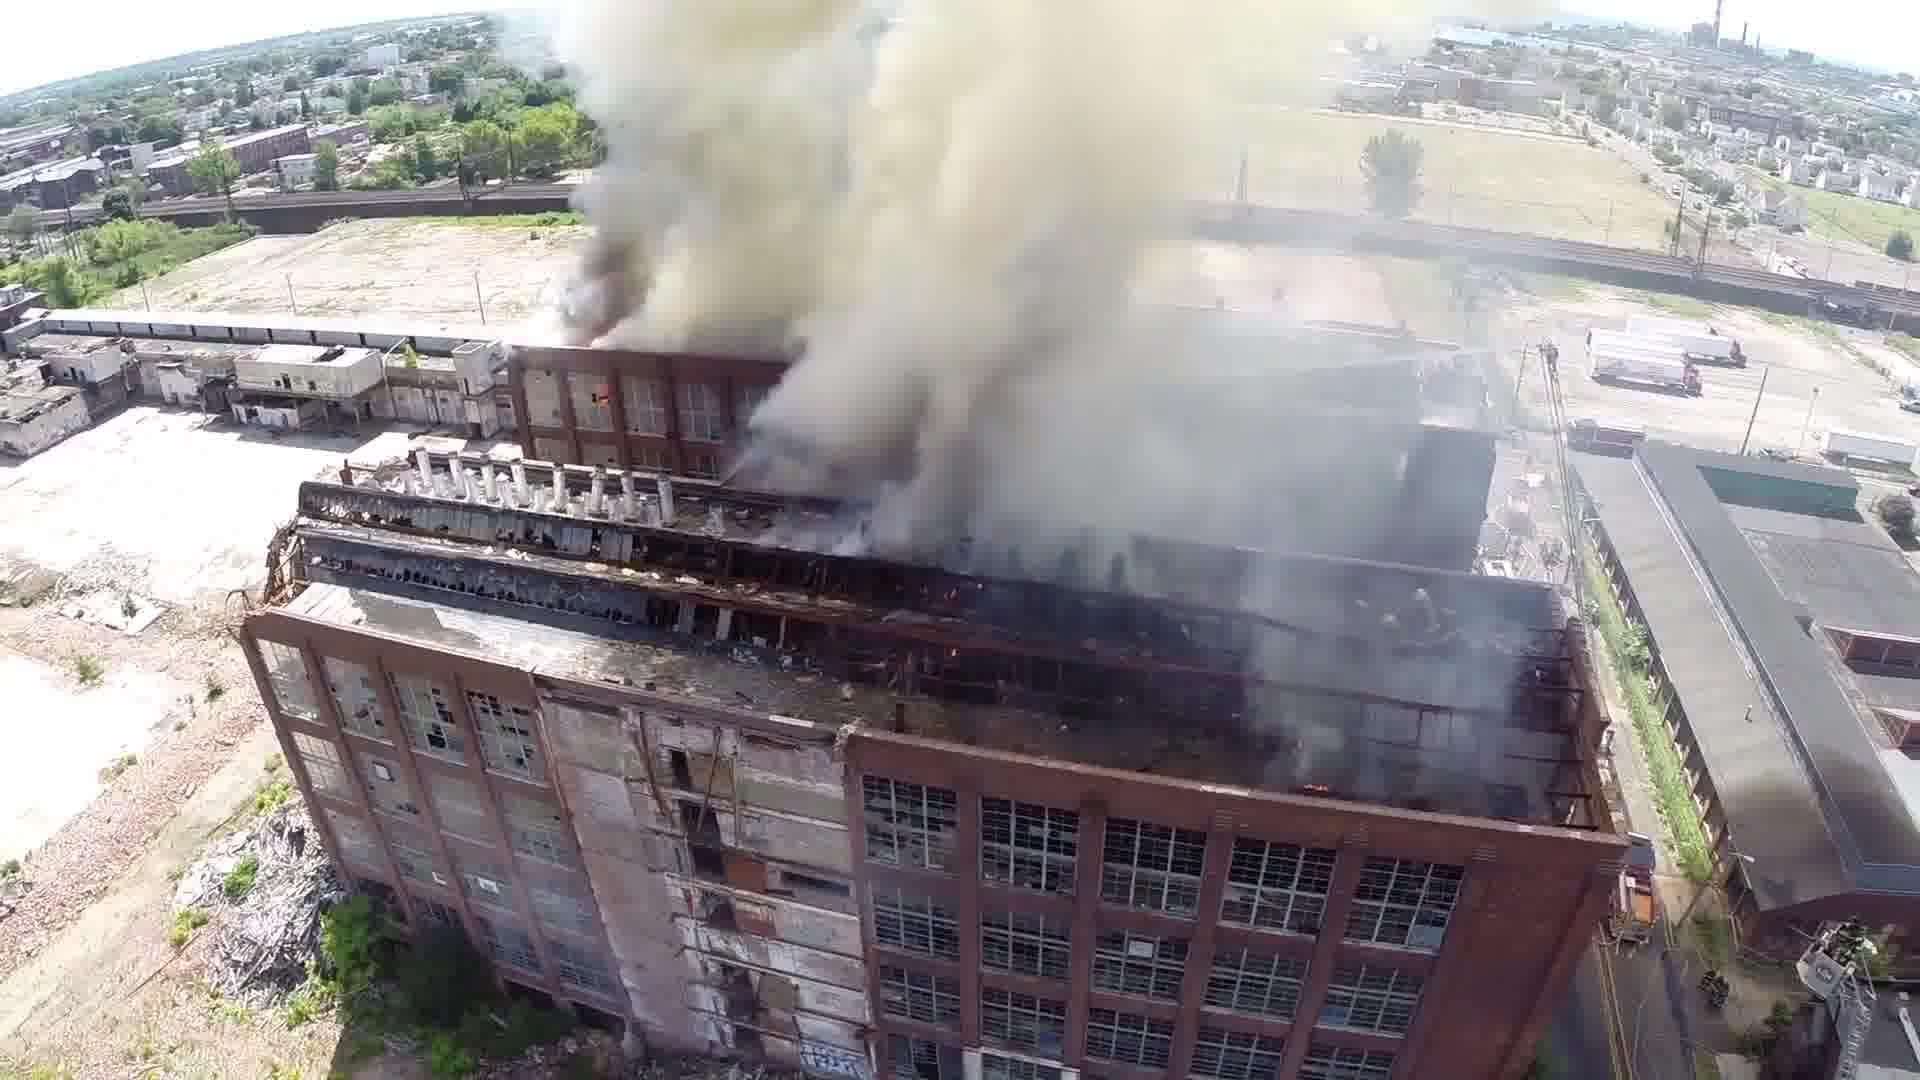smoke: (599, 11, 1178, 342), (827, 371, 1346, 535)
